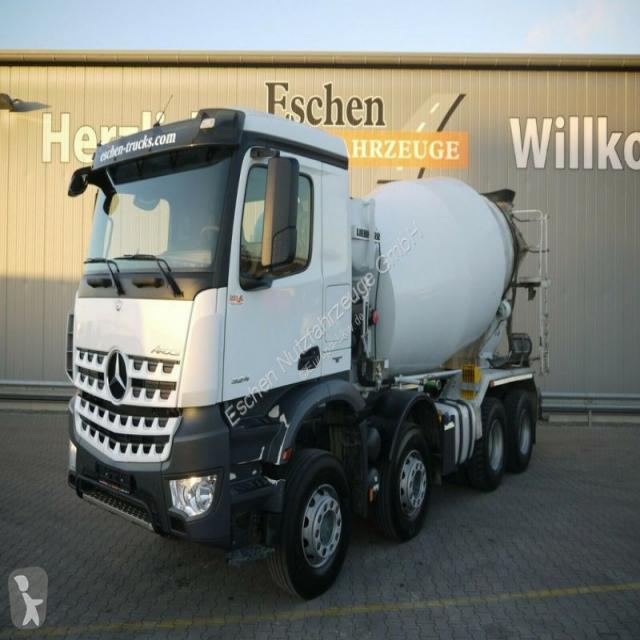Mixer Truck: (66, 108, 550, 597)
